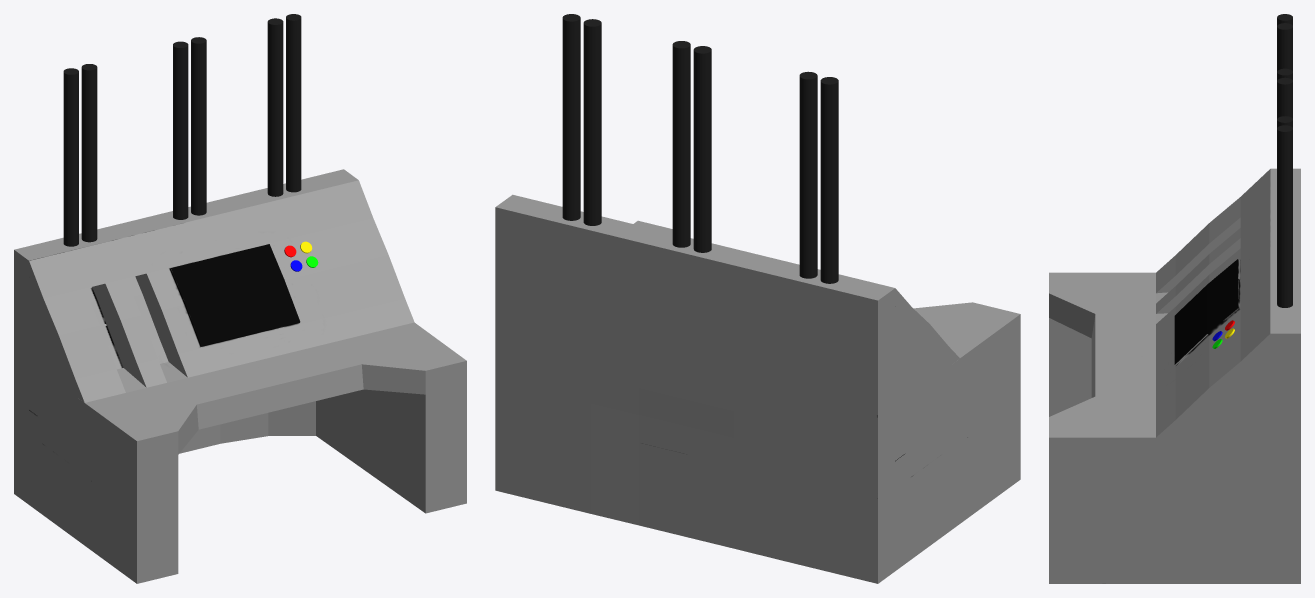
The model's file is PneumaticLarge.fbx.
3 views of the same model, side by side, from view 1: azimuth 30°, elevation 25°; view 2: azimuth 150°, elevation 25°; view 3: azimuth 270°, elevation 25° (orthographic). The views are drawn at different scales.
Parts seen in each view (by area): view 1: Cube, Cylinder.004, Cylinder.008, Cylinder.006; view 2: Cube, Cylinder.006, Cylinder.004, Cylinder.008; view 3: Cube, Cylinder.004, Cylinder.008, Cylinder.006.
Part boxes in pixels (x1,y1,x2,y2): Cube: (14,169,466,583); Cylinder.004: (267,14,301,196); Cylinder.008: (63,64,97,246); Cylinder.006: (173,37,206,219); Cube: (495,194,1020,583); Cylinder.006: (672,41,711,252); Cylinder.004: (562,14,601,225); Cylinder.008: (799,71,838,283); Cube: (1049,168,1300,583); Cylinder.004: (1277,116,1292,307); Cylinder.008: (1277,14,1292,71); Cylinder.006: (1277,68,1292,118).
Bounding box in the file's own units: 295 × 355 × 190.
Materials: 8 (1 with a texture image).
